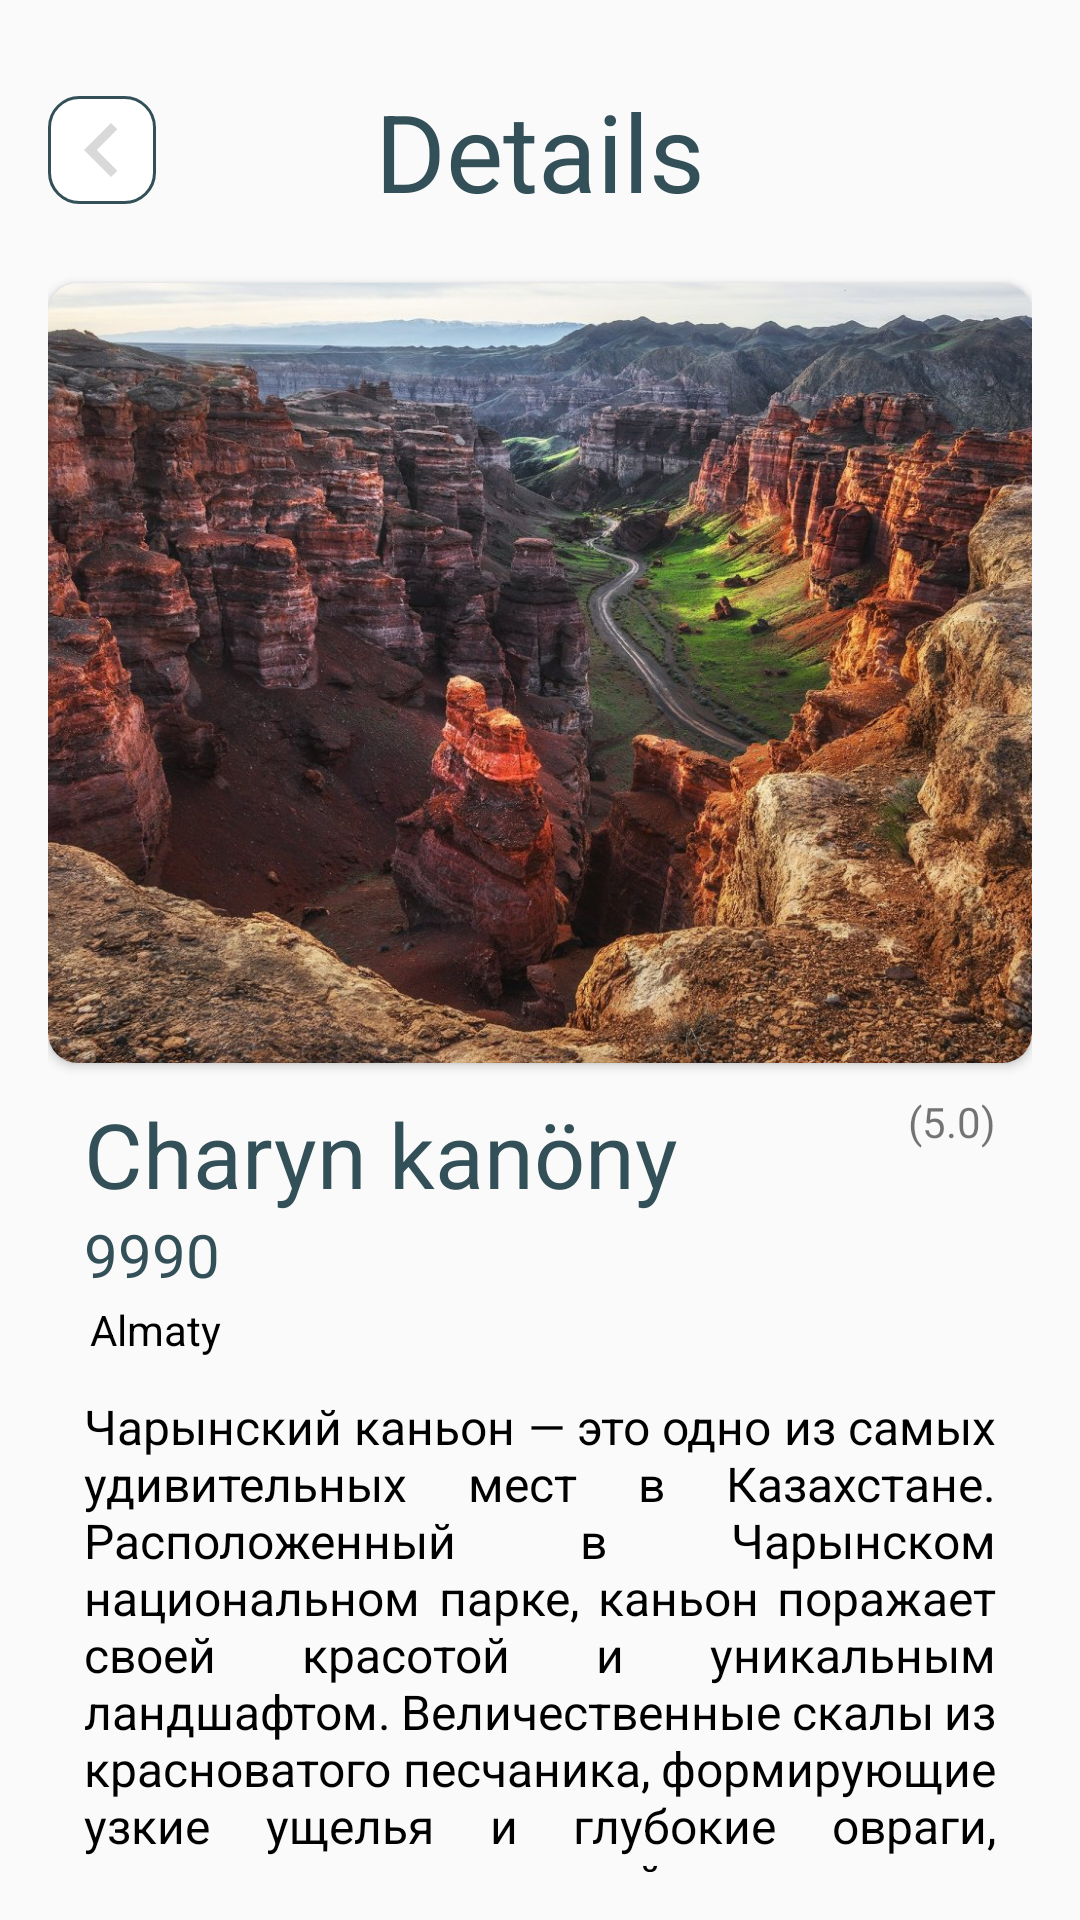

Point at icon controls on the screen. Image size 1080 x 1920, points as (x,y).
back: (102,150)
